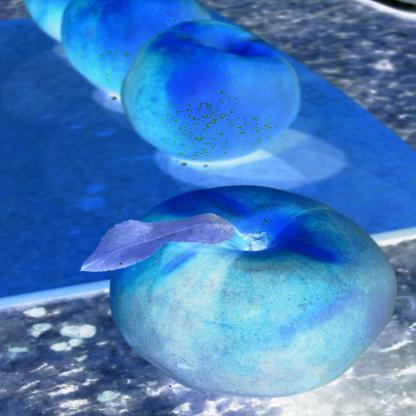Peach leaf: (80, 212, 239, 276)
